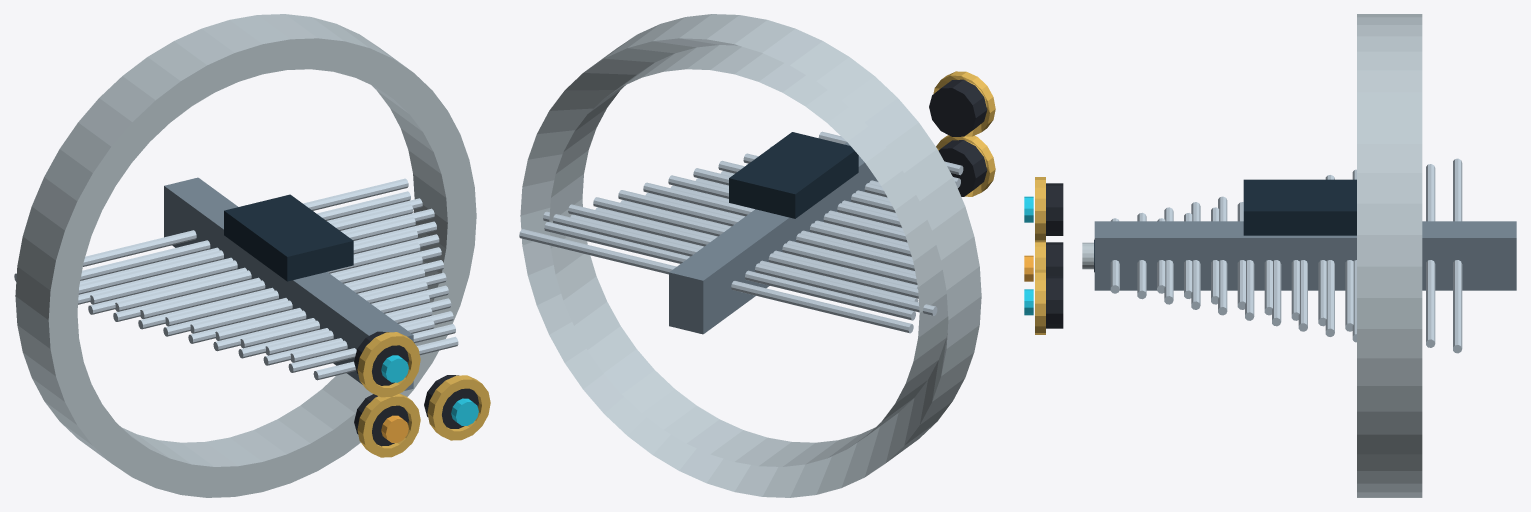
File: 35_L82_AntennaPolarizationRotationHead.fbx
The picture shows the model from 3 angles, left to right: view 1: azimuth 30°, elevation 25°; view 2: azimuth 150°, elevation 25°; view 3: azimuth 270°, elevation 25°; orthographic projection. The views are drawn at different scales.
Parts seen in each view (by area): view 1: AntennaPolarizationRotationHead, AntennaPolarizationRotationHead_Part_0039, AntennaPolarizationRotationHead_Part_0076, AntennaPolarizationRotationHead_Part_0052, AntennaPolarizationRotationHead_Part_0046, AntennaPolarizationRotationHead_Part_0049, AntennaPolarizationRotationHead_Part_0043, AntennaPolarizationRotationHead_Part_0055, AntennaPolarizationRotationHead_Part_0070, AntennaPolarizationRotationHead_Part_0058, AntennaPolarizationRotationHead_Part_0040, AntennaPolarizationRotationHead_Part_0061 (+3 smaller); view 2: AntennaPolarizationRotationHead, AntennaPolarizationRotationHead_Part_0039, AntennaPolarizationRotationHead_Part_0076, AntennaPolarizationRotationHead_Part_0040, AntennaPolarizationRotationHead_Part_0043, AntennaPolarizationRotationHead_Part_0046, AntennaPolarizationRotationHead_Part_0049, AntennaPolarizationRotationHead_Part_0052, AntennaPolarizationRotationHead_Part_0055, AntennaPolarizationRotationHead_Part_0058, AntennaPolarizationRotationHead_Part_0061; view 3: AntennaPolarizationRotationHead, AntennaPolarizationRotationHead_Part_0039, AntennaPolarizationRotationHead_Part_0076, AntennaPolarizationRotationHead_Part_0049, AntennaPolarizationRotationHead_Part_0061, AntennaPolarizationRotationHead_Part_0064, AntennaPolarizationRotationHead_Part_0055, AntennaPolarizationRotationHead_Part_0052, AntennaPolarizationRotationHead_Part_0058, AntennaPolarizationRotationHead_Part_0067.
Part boxes in pixels (x1=…): AntennaPolarizationRotationHead: x1=14, y1=14, x2=490, y2=497; AntennaPolarizationRotationHead_Part_0039: x1=188, y1=195, x2=413, y2=390; AntennaPolarizationRotationHead_Part_0076: x1=247, y1=212, x2=353, y2=281; AntennaPolarizationRotationHead_Part_0052: x1=138, y1=247, x2=441, y2=329; AntennaPolarizationRotationHead_Part_0046: x1=88, y1=221, x2=436, y2=314; AntennaPolarizationRotationHead_Part_0049: x1=113, y1=234, x2=439, y2=321; AntennaPolarizationRotationHead_Part_0043: x1=78, y1=208, x2=434, y2=304; AntennaPolarizationRotationHead_Part_0055: x1=163, y1=260, x2=443, y2=336; AntennaPolarizationRotationHead_Part_0070: x1=288, y1=324, x2=455, y2=372; AntennaPolarizationRotationHead_Part_0058: x1=188, y1=272, x2=446, y2=343; AntennaPolarizationRotationHead_Part_0040: x1=79, y1=198, x2=422, y2=284; AntennaPolarizationRotationHead_Part_0061: x1=213, y1=285, x2=448, y2=351; AntennaPolarizationRotationHead: x1=519, y1=14, x2=995, y2=497; AntennaPolarizationRotationHead_Part_0039: x1=693, y1=142, x2=878, y2=316; AntennaPolarizationRotationHead_Part_0076: x1=753, y1=132, x2=858, y2=201; AntennaPolarizationRotationHead_Part_0040: x1=543, y1=211, x2=937, y2=315; AntennaPolarizationRotationHead_Part_0043: x1=568, y1=204, x2=918, y2=298; AntennaPolarizationRotationHead_Part_0046: x1=593, y1=197, x2=917, y2=284; AntennaPolarizationRotationHead_Part_0049: x1=618, y1=190, x2=914, y2=270; AntennaPolarizationRotationHead_Part_0052: x1=643, y1=182, x2=911, y2=256; AntennaPolarizationRotationHead_Part_0055: x1=668, y1=175, x2=907, y2=242; AntennaPolarizationRotationHead_Part_0058: x1=693, y1=168, x2=901, y2=227; AntennaPolarizationRotationHead_Part_0061: x1=718, y1=160, x2=895, y2=212; AntennaPolarizationRotationHead: x1=1024, y1=14, x2=1516, y2=497; AntennaPolarizationRotationHead_Part_0039: x1=1094, y1=221, x2=1470, y2=290; AntennaPolarizationRotationHead_Part_0076: x1=1243, y1=179, x2=1321, y2=235; AntennaPolarizationRotationHead_Part_0049: x1=1325, y1=175, x2=1334, y2=336; AntennaPolarizationRotationHead_Part_0061: x1=1218, y1=196, x2=1227, y2=315; AntennaPolarizationRotationHead_Part_0064: x1=1191, y1=202, x2=1200, y2=309; AntennaPolarizationRotationHead_Part_0055: x1=1272, y1=260, x2=1281, y2=326; AntennaPolarizationRotationHead_Part_0052: x1=1298, y1=260, x2=1307, y2=331; AntennaPolarizationRotationHead_Part_0058: x1=1245, y1=260, x2=1254, y2=320; AntennaPolarizationRotationHead_Part_0067: x1=1164, y1=207, x2=1173, y2=304.
Bounding box in the file's own units: 104 × 104 × 106.
